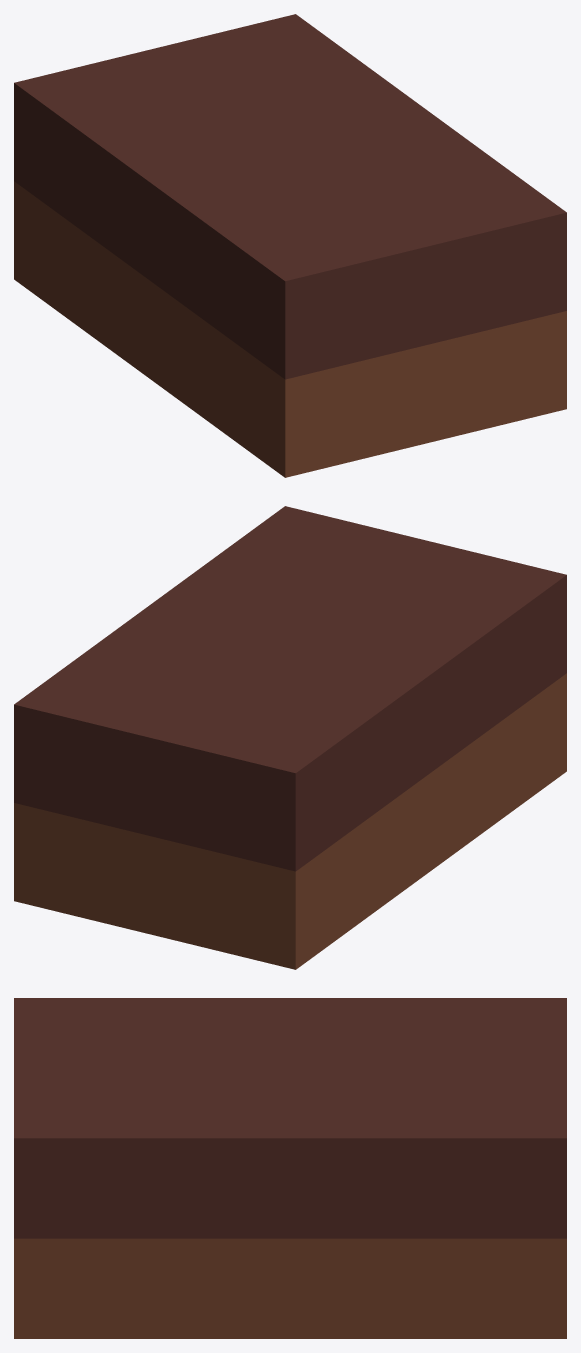
Rendered from Waist.obj.
3 renders of one model, top to bottom at view 1: azimuth 30°, elevation 25°; view 2: azimuth 150°, elevation 25°; view 3: azimuth 270°, elevation 25°, orthographic.
Size of the model in its own units: 3 by 2 by 5.
